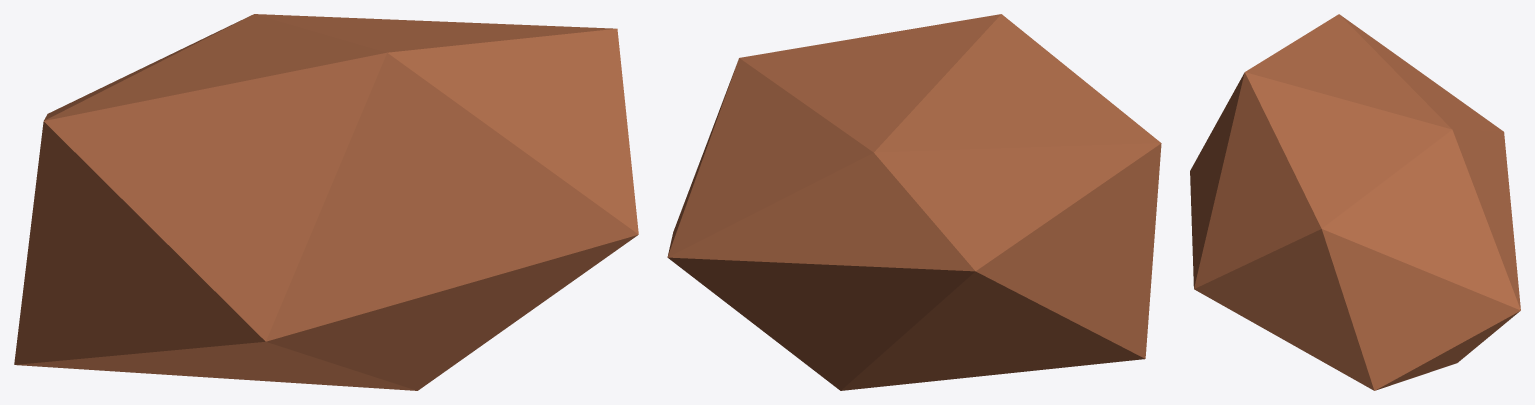
Rendered from rock.glb.
3 renders of one model, left to right at view 1: azimuth 30°, elevation 25°; view 2: azimuth 150°, elevation 25°; view 3: azimuth 270°, elevation 25°, orthographic. The views are drawn at different scales.
Parts seen in each view (by area): view 1: Rock; view 2: Rock; view 3: Rock.
Boxes of the visible parts, x1,y1,x2,y2 form: Rock: [14, 14, 638, 390]; Rock: [667, 14, 1161, 390]; Rock: [1190, 14, 1520, 390].
Size of the model in its own units: 1.16 by 0.7052 by 0.7778.
